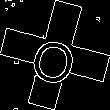O_N: (28, 25, 82, 85)
